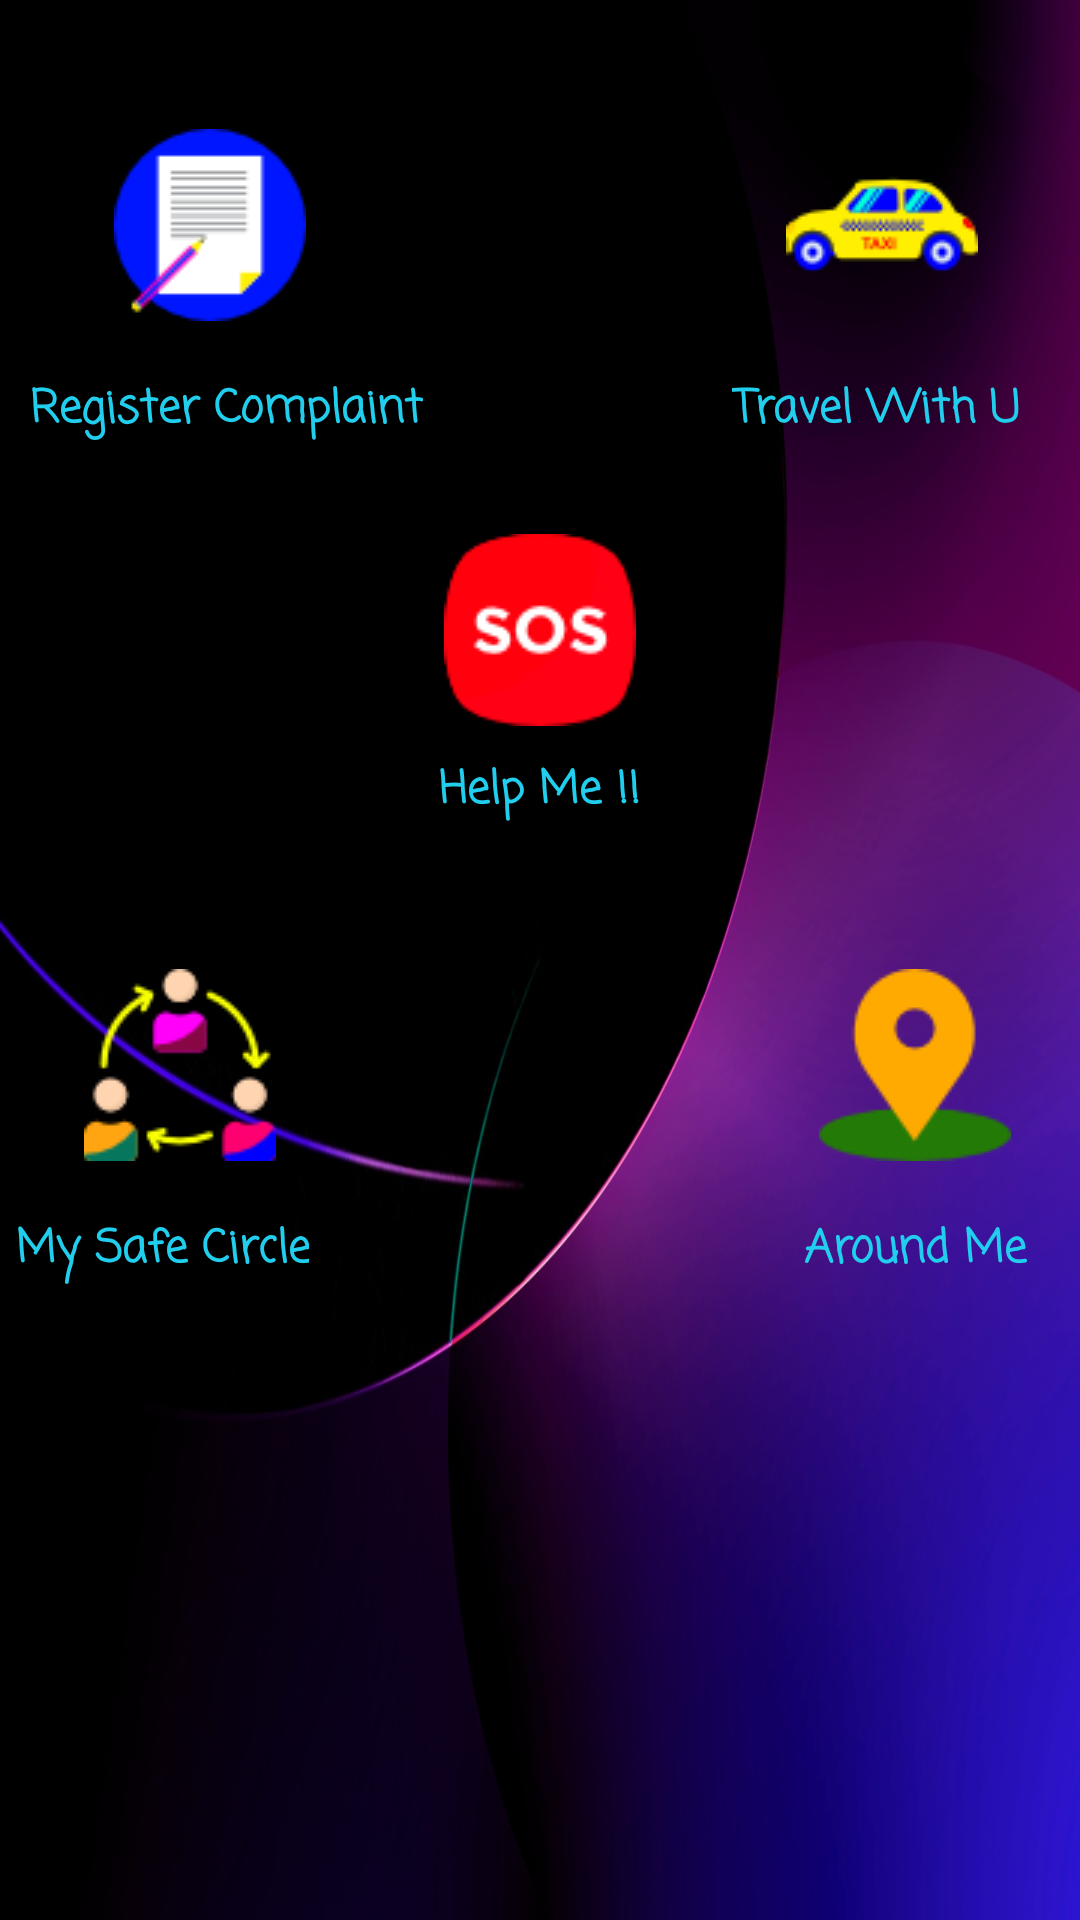

Where to tap for icons on this 1080px x 1920px app screen, as point (x, y):
sos: point (540, 630)
